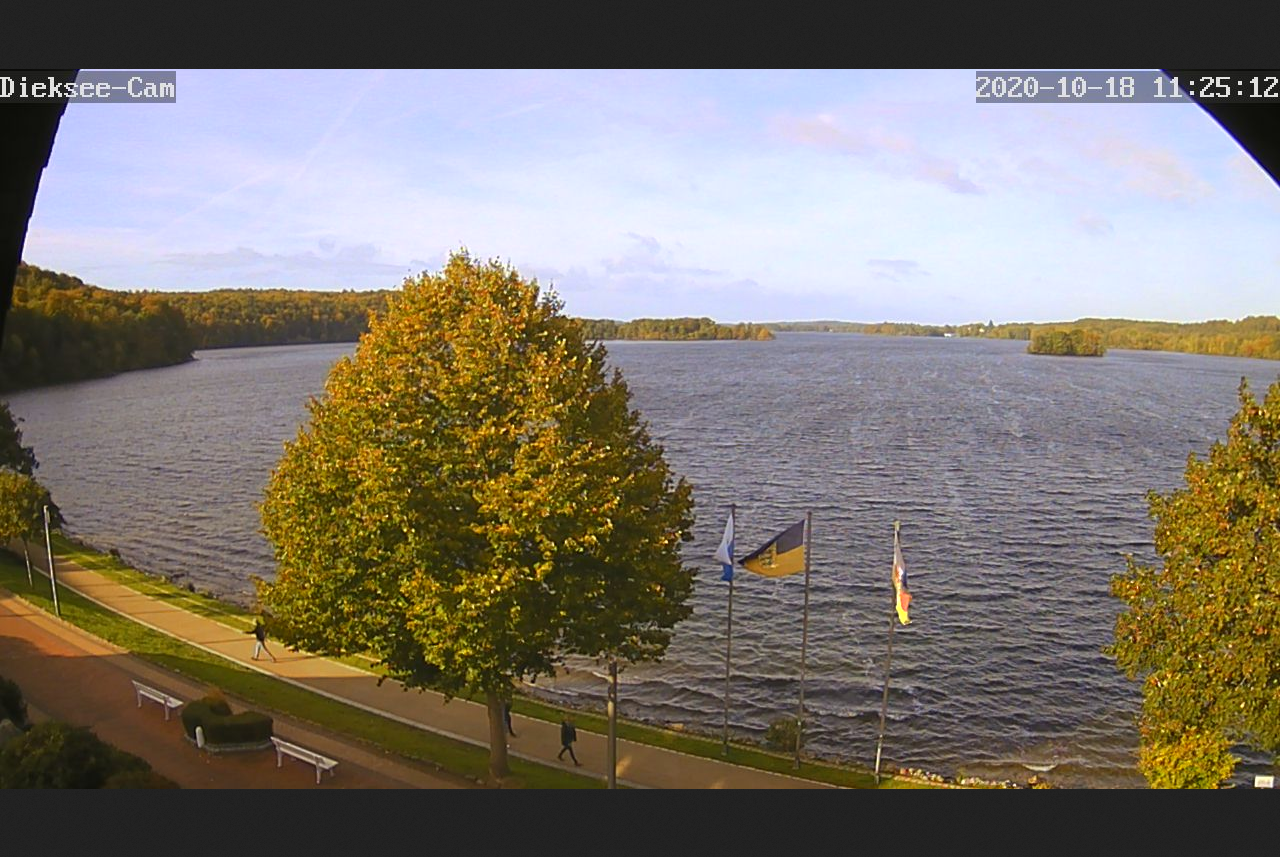maybe: (889, 531, 917, 629)
no: (711, 511, 735, 583)
yes: (738, 516, 810, 577)
